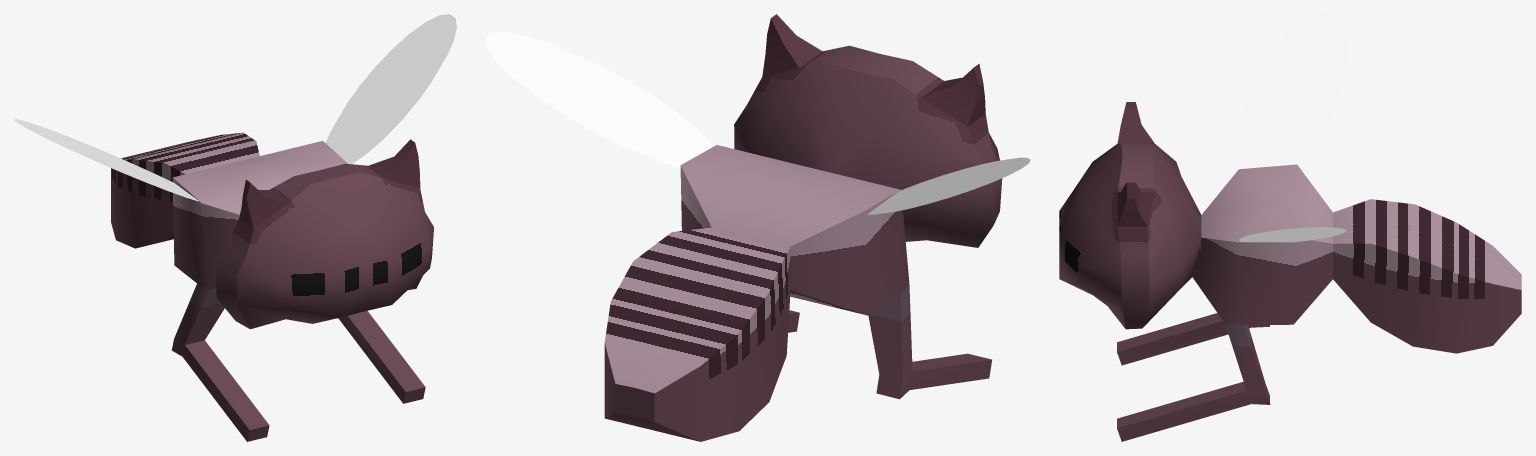
Rendered from Flyingtracker.fbx.
The picture shows the model from 3 angles, left to right: view 1: azimuth 30°, elevation 25°; view 2: azimuth 150°, elevation 25°; view 3: azimuth 270°, elevation 25°; orthographic projection. The views are drawn at different scales.
Parts seen in each view (by area): view 1: pCube5, pDisc1, pDisc2; view 2: pCube5, pDisc1, pDisc2; view 3: pCube5, pDisc2, pDisc1.
Boxes of the visible parts, x1,y1,x2,y2 form: pCube5: (111,132,433,441); pDisc1: (325,14,456,163); pDisc2: (14,119,198,201); pCube5: (604,14,1002,441); pDisc1: (485,32,713,168); pDisc2: (867,157,1030,214); pCube5: (1059,102,1521,441); pDisc2: (1239,14,1346,168); pDisc1: (1239,227,1346,242).
Size of the model in its own units: 2.51 by 1.53 by 2.3.
